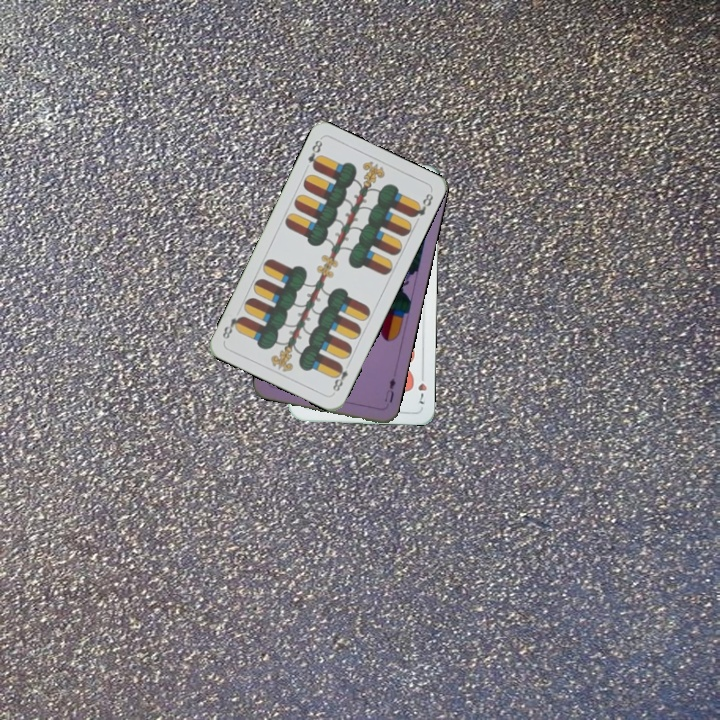E8: (329, 358, 353, 394), (304, 136, 325, 173)
EU: (380, 374, 398, 405)
H7: (414, 368, 429, 407)
